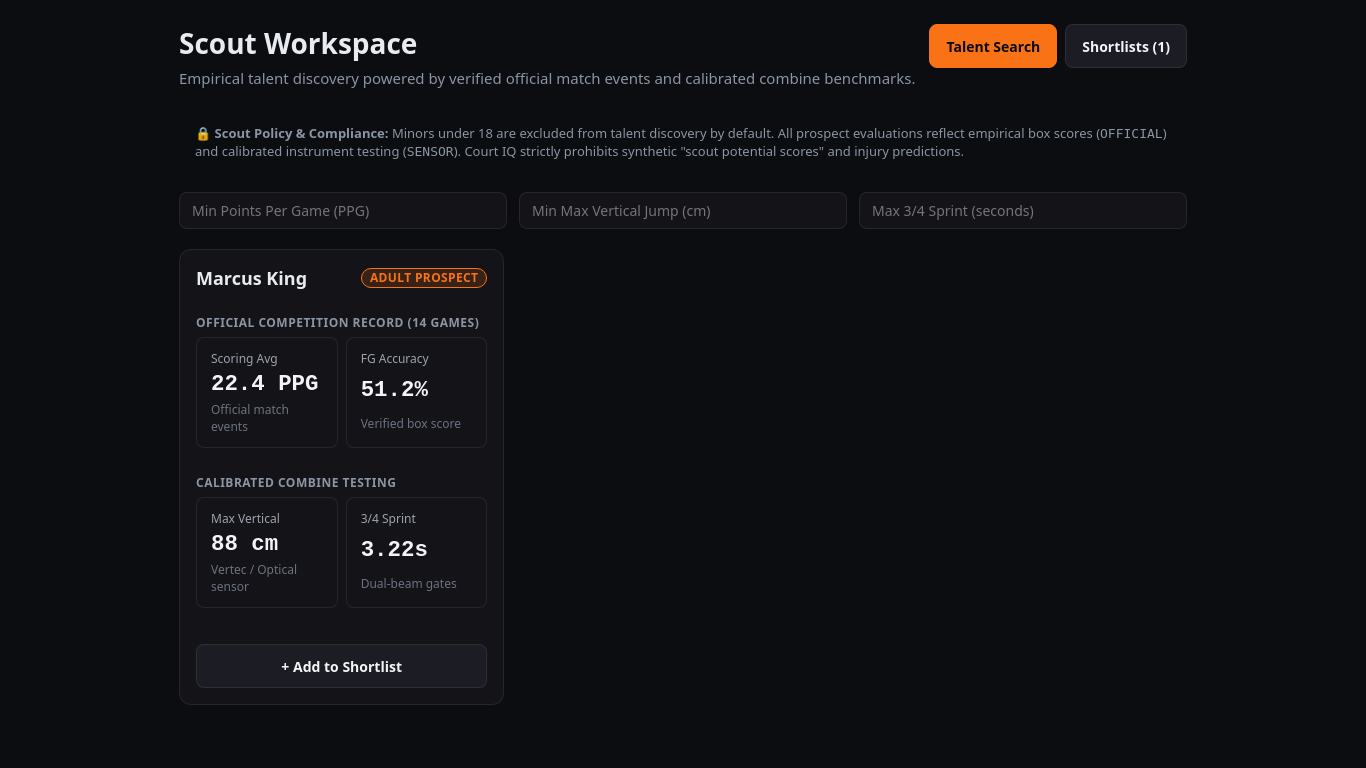
Test case: ScoutWorkspace Component (WP-8.4) › switches to shortlists tab and displays shortlist cards
Click the button "Shortlists (1)" at (1126, 46), box [1065, 24, 1187, 68]
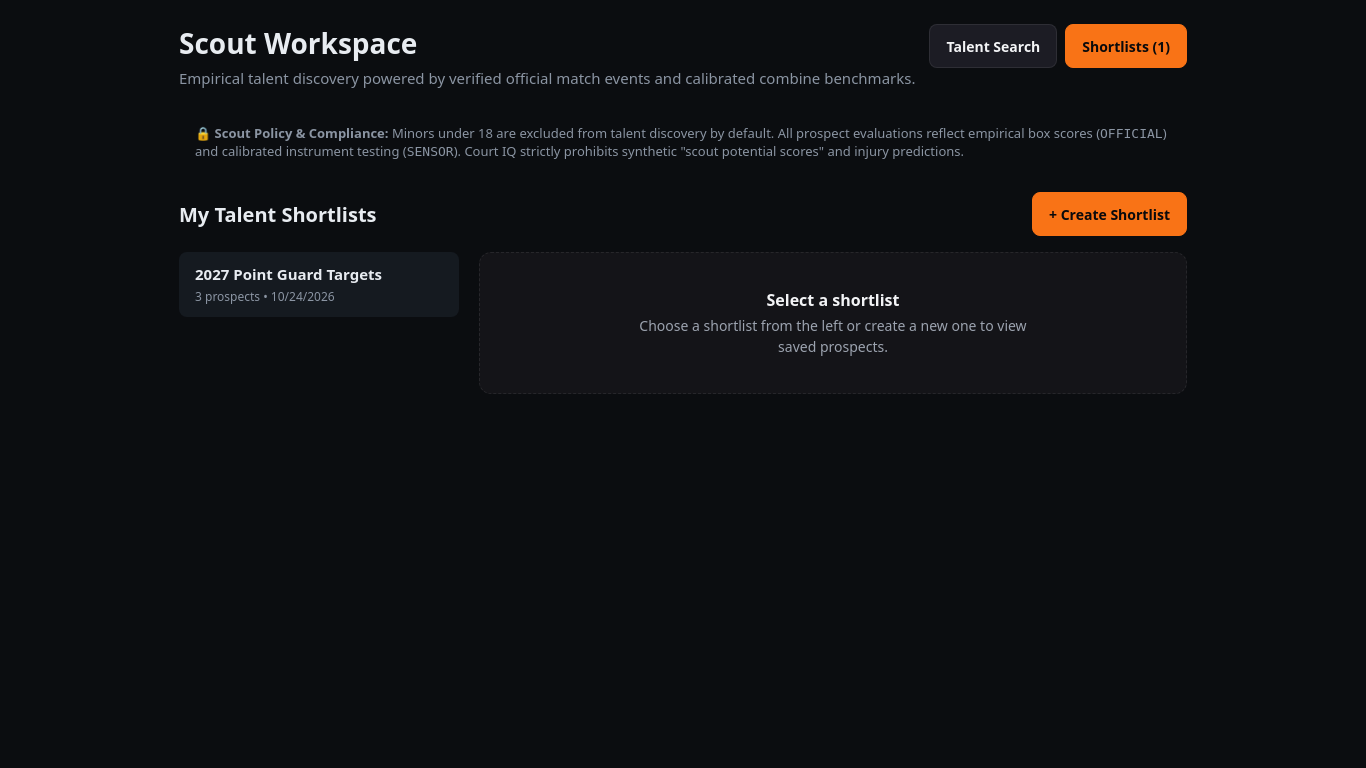
Expected: the heading "My Talent Shortlists" is shown, [179, 200, 376, 228]
Expected: the text "2027 Point Guard Targets" is shown, [195, 264, 382, 284]
